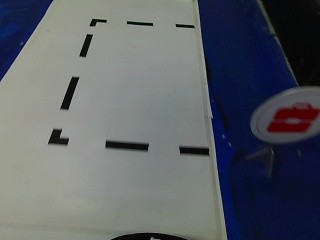company: (255, 92, 318, 143)
